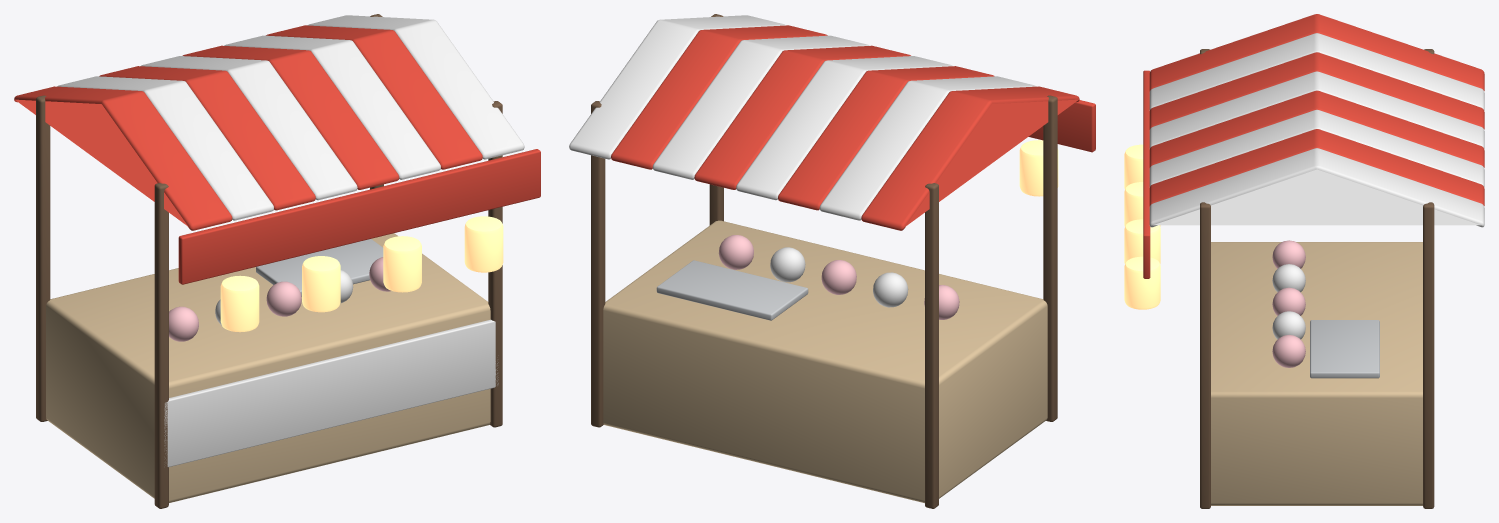
The model's file is yatai.glb.
The picture shows the model from 3 angles, left to right: view 1: azimuth 30°, elevation 25°; view 2: azimuth 150°, elevation 25°; view 3: azimuth 270°, elevation 25°; orthographic projection. The views are drawn at different scales.
Parts seen in each view (by area): view 1: yatai; view 2: yatai; view 3: yatai.
Part boxes in pixels (x1,y1,x2,y2): yatai: [14, 14, 540, 508]; yatai: [569, 14, 1095, 508]; yatai: [1124, 14, 1484, 508].
Bounding box in the file's own units: 2.8 × 2.69 × 2.58.
